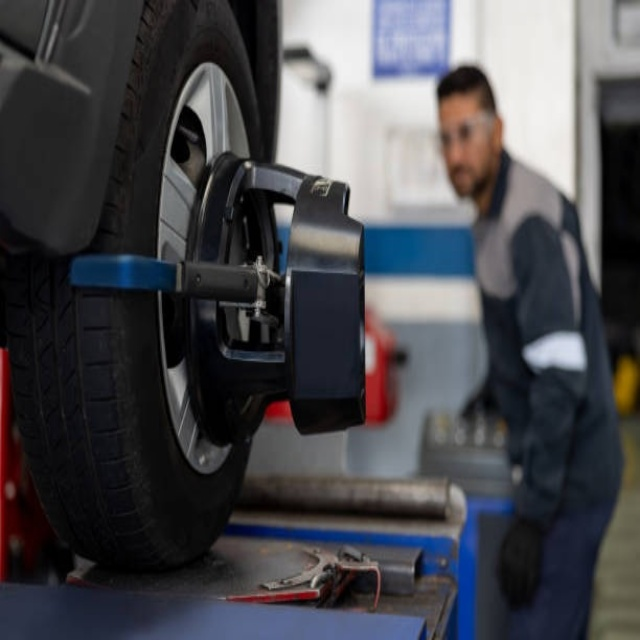Gafas: (437, 113, 493, 151)
Guantes: (497, 513, 549, 609)
